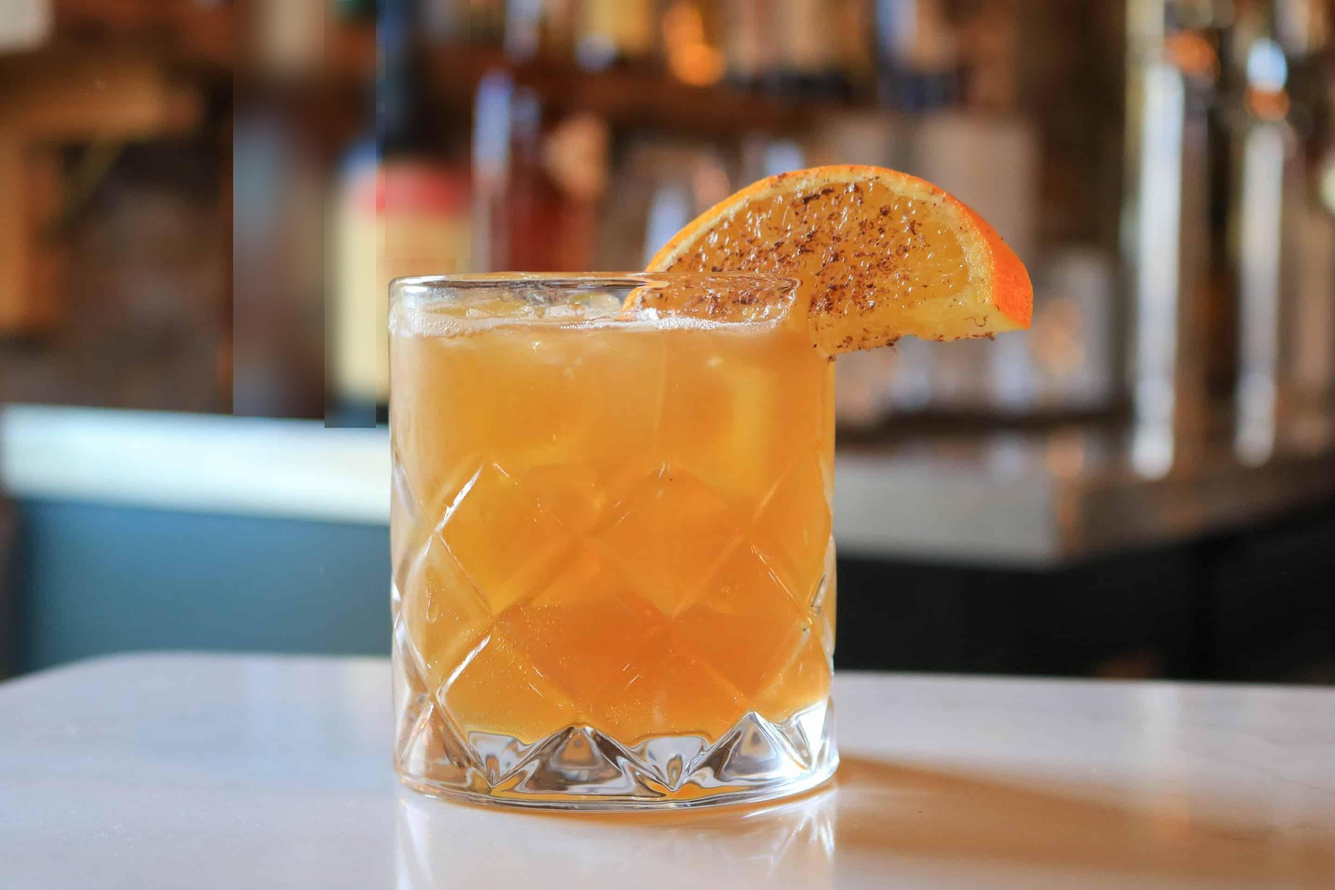glass-normal: (383, 270, 843, 823)
